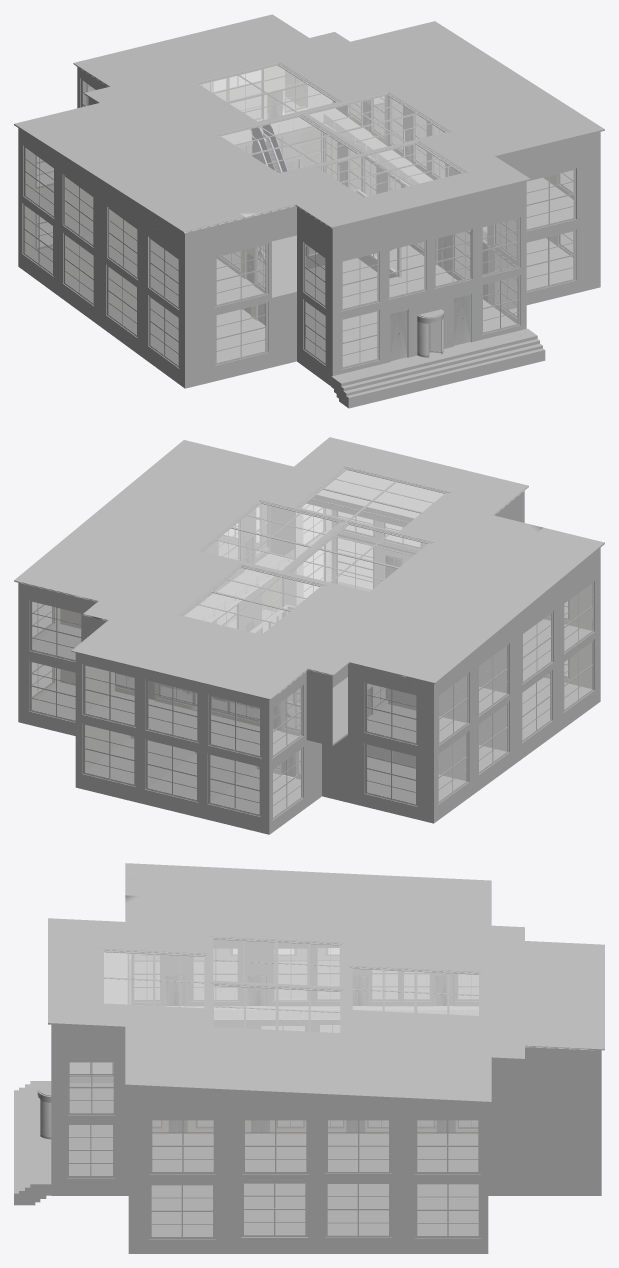
The model's file is MelanatedVr.fbx.
The picture shows the model from 3 angles, top to bottom: view 1: azimuth 30°, elevation 25°; view 2: azimuth 150°, elevation 25°; view 3: azimuth 270°, elevation 25°; orthographic projection. The views are drawn at different scales.
Parts seen in each view (by area): view 1: Roof Gable_0Mbt865un4wgspFoLm92Zr, Window Opening_0BALSJfjP0KgEq0180oEPN, Window Opening_0A_zMYHQj46wokcRFPc1oH, Wall_2dS9YR1y5289MAU3KoSENC, Wall_1k$AyrIQfCSg$VNLx6U4ye, AutoFloor_2SNeKUFvL4zQau6nLxvCp5, AutoFloor_0_ky2DR3f2VgCNoZoNRe50, Furniture_0GzV6VWXL6j8jJjZRfpEx$, Slab_0fvqcugs1D_f7naugHasdP, Slab_1KVkssW9D6$Oqucw3YrkgI, Door Opening_23YJI3rfXByBIlYp57QGa$, Wall_2h1V4faU5EBf24d7s88AhH (+7 smaller); view 2: Roof Gable_0Mbt865un4wgspFoLm92Zr, Window Opening_0BALSJfjP0KgEq0180oEPN, Window Opening_0A_zMYHQj46wokcRFPc1oH, Wall_1k$AyrIQfCSg$VNLx6U4ye, Wall_2dS9YR1y5289MAU3KoSENC, AutoFloor_0_ky2DR3f2VgCNoZoNRe50, AutoFloor_2SNeKUFvL4zQau6nLxvCp5, Slab_0fvqcugs1D_f7naugHasdP, Slab_1KVkssW9D6$Oqucw3YrkgI, Wall_06dtBIHyr2_vBXaUGsOcWu, Wall_2h1V4faU5EBf24d7s88AhH, Wall_0Zj25abozErx1XfoJuKuso (+3 smaller); view 3: Roof Gable_0Mbt865un4wgspFoLm92Zr, Window Opening_0BALSJfjP0KgEq0180oEPN, Window Opening_0A_zMYHQj46wokcRFPc1oH, Wall_2dS9YR1y5289MAU3KoSENC, AutoFloor_0_ky2DR3f2VgCNoZoNRe50, Wall_1k$AyrIQfCSg$VNLx6U4ye, AutoFloor_2SNeKUFvL4zQau6nLxvCp5, Slab_0fvqcugs1D_f7naugHasdP, Slab_1KVkssW9D6$Oqucw3YrkgI, Wall_2h1V4faU5EBf24d7s88AhH, Furniture_0GzV6VWXL6j8jJjZRfpEx$, Door Opening_23YJI3rfXByBIlYp57QGa$ (+3 smaller).
Part boxes in pixels (x1,y1,x2,y2): Roof Gable_0Mbt865un4wgspFoLm92Zr: (14,14,604,251); Window Opening_0BALSJfjP0KgEq0180oEPN: (23,62,576,311); Window Opening_0A_zMYHQj46wokcRFPc1oH: (22,128,576,369); Wall_2dS9YR1y5289MAU3KoSENC: (18,129,600,377); Wall_1k$AyrIQfCSg$VNLx6U4ye: (18,71,600,318); AutoFloor_2SNeKUFvL4zQau6nLxvCp5: (27,173,573,366); AutoFloor_0_ky2DR3f2VgCNoZoNRe50: (27,89,573,306); Furniture_0GzV6VWXL6j8jJjZRfpEx$: (331,328,545,408); Slab_0fvqcugs1D_f7naugHasdP: (18,67,600,262); Slab_1KVkssW9D6$Oqucw3YrkgI: (18,255,600,388); Door Opening_23YJI3rfXByBIlYp57QGa$: (242,91,471,361); Wall_2h1V4faU5EBf24d7s88AhH: (216,65,459,292); Roof Gable_0Mbt865un4wgspFoLm92Zr: (14,437,604,699); Window Opening_0BALSJfjP0KgEq0180oEPN: (29,467,594,758); Window Opening_0A_zMYHQj46wokcRFPc1oH: (29,537,594,820); Wall_1k$AyrIQfCSg$VNLx6U4ye: (18,504,600,764); Wall_2dS9YR1y5289MAU3KoSENC: (18,535,600,823); AutoFloor_0_ky2DR3f2VgCNoZoNRe50: (32,541,591,755); AutoFloor_2SNeKUFvL4zQau6nLxvCp5: (32,607,591,816); Slab_0fvqcugs1D_f7naugHasdP: (18,470,600,708); Slab_1KVkssW9D6$Oqucw3YrkgI: (18,690,600,834); Wall_06dtBIHyr2_vBXaUGsOcWu: (60,669,506,801); Wall_2h1V4faU5EBf24d7s88AhH: (115,495,413,735); Wall_0Zj25abozErx1XfoJuKuso: (60,609,506,722); Roof Gable_0Mbt865un4wgspFoLm92Zr: (48,863,604,1105); Window Opening_0BALSJfjP0KgEq0180oEPN: (67,937,483,1174); Window Opening_0A_zMYHQj46wokcRFPc1oH: (67,1023,481,1239); Wall_2dS9YR1y5289MAU3KoSENC: (51,1077,601,1241); AutoFloor_0_ky2DR3f2VgCNoZoNRe50: (134,961,478,1171); Wall_1k$AyrIQfCSg$VNLx6U4ye: (51,948,601,1178); AutoFloor_2SNeKUFvL4zQau6nLxvCp5: (69,1025,478,1236); Slab_0fvqcugs1D_f7naugHasdP: (51,952,601,1117); Slab_1KVkssW9D6$Oqucw3YrkgI: (51,1183,601,1253); Wall_2h1V4faU5EBf24d7s88AhH: (131,940,478,1134); Furniture_0GzV6VWXL6j8jJjZRfpEx$: (14,1081,51,1205); Door Opening_23YJI3rfXByBIlYp57QGa$: (165,975,455,1134).
Bounding box in the file's own units: 4764 × 1835 × 5374.
